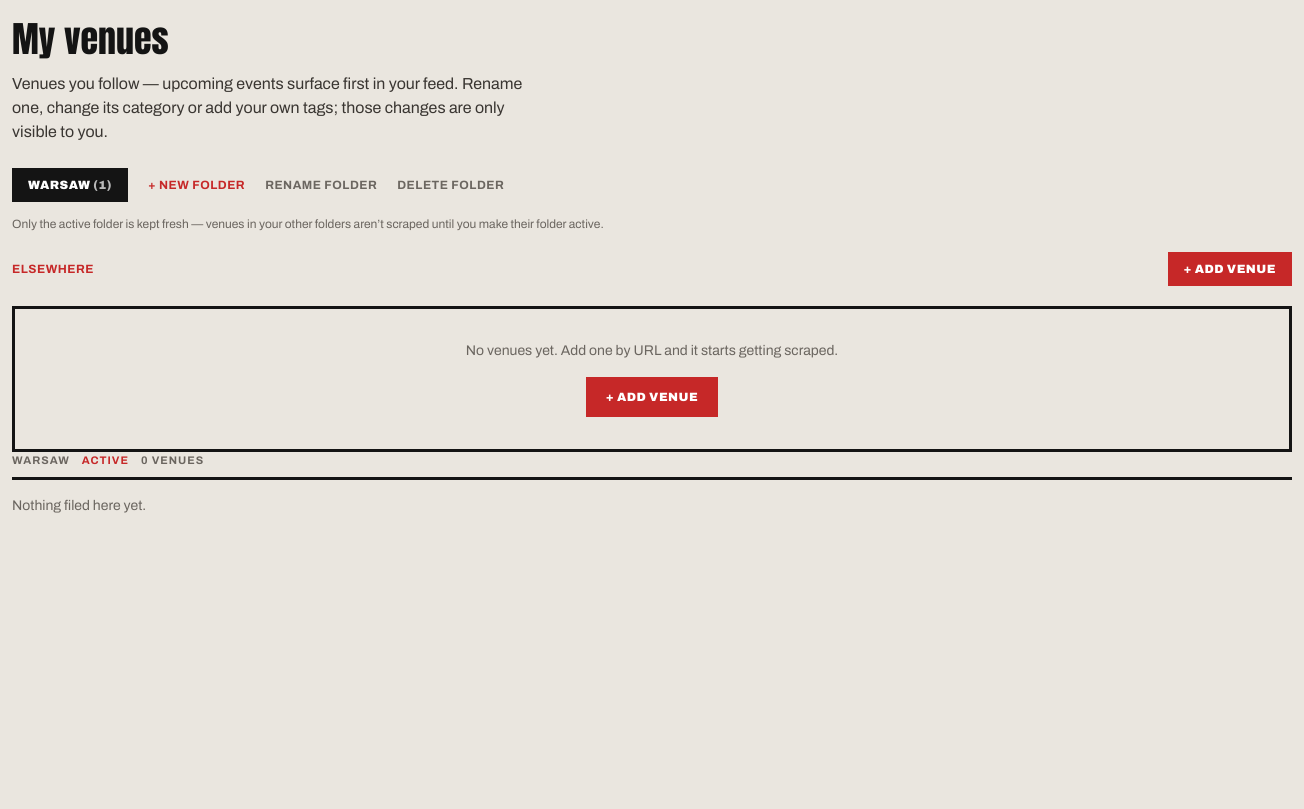
Scenario: MyVenuesSection — "Add venue" prominence (GOI-73) › gives an empty tab its own button rather than naming one to go find
Check: the text "No venues yet. Add one by URL and it starts getting scraped." is shown, box [466, 343, 838, 358]
Click the 2nd button "+ Add venue" at [652, 397], box [586, 377, 718, 417]
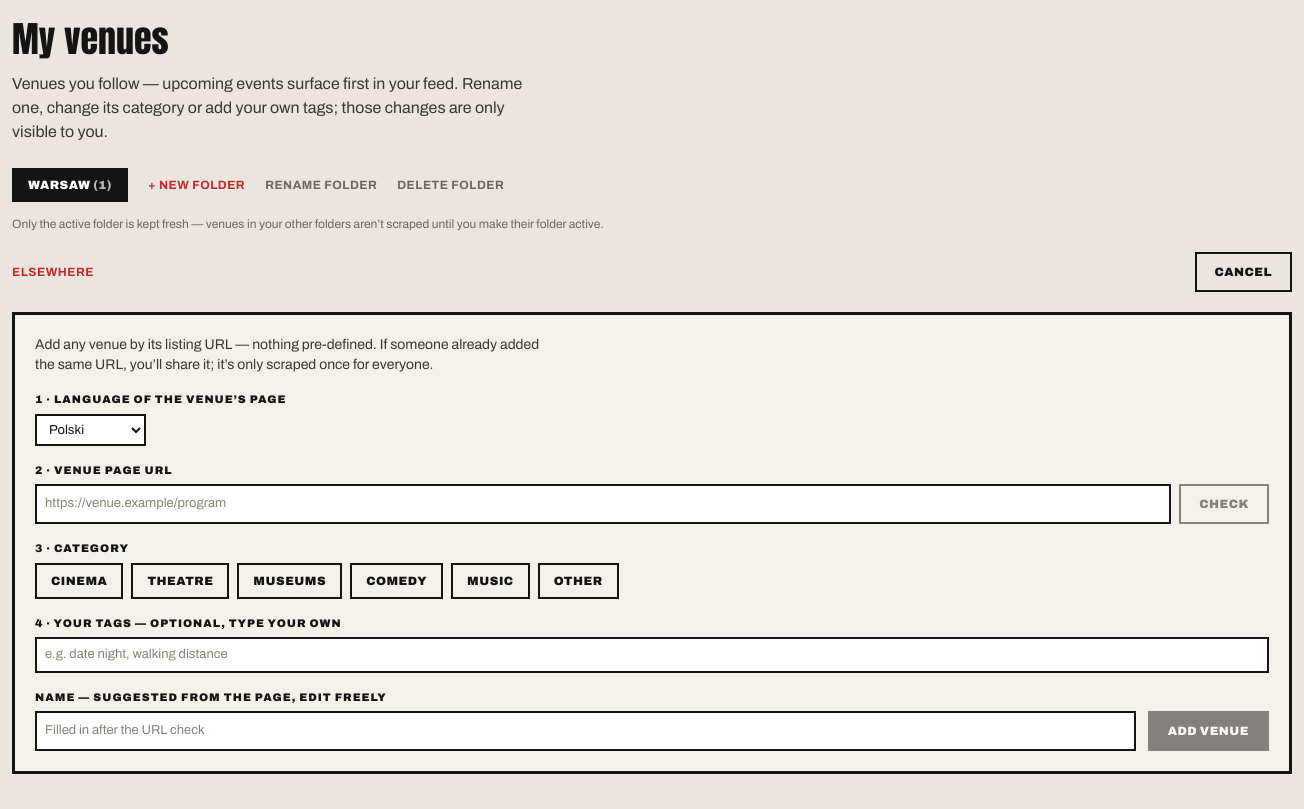
Check: the text "No venues yet" is gone
